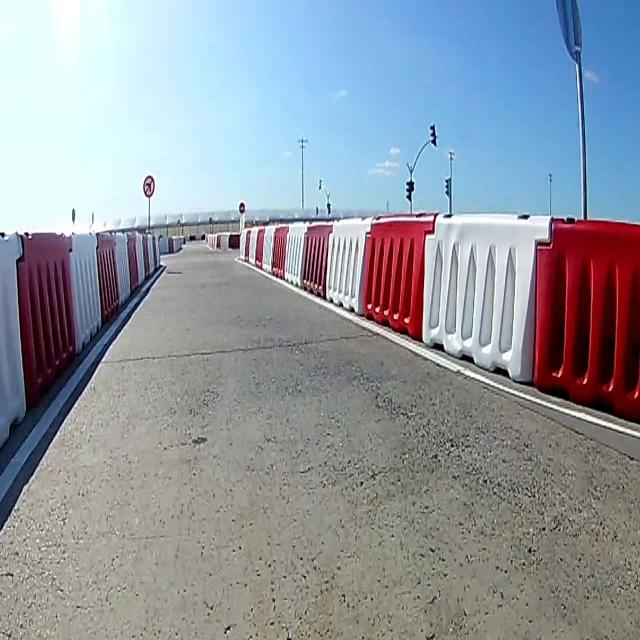girisyok: (239, 202, 245, 214)
soladonulmez: (143, 175, 154, 197)
